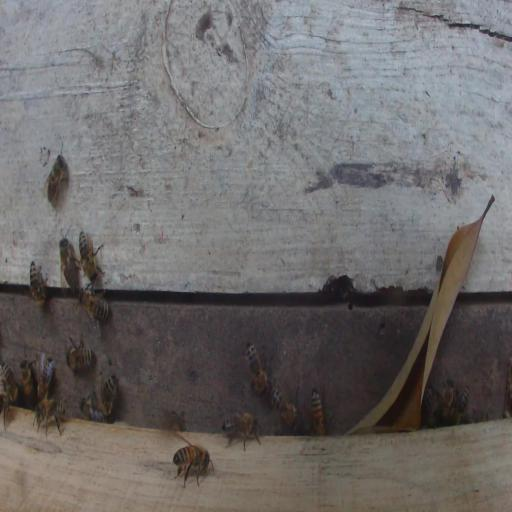Insects: (172, 443, 214, 488), (222, 411, 261, 452), (242, 342, 268, 396), (78, 230, 104, 282), (44, 151, 69, 204), (34, 396, 66, 436), (271, 387, 299, 430), (66, 333, 95, 373), (79, 288, 112, 323), (60, 237, 78, 294), (434, 376, 455, 423), (29, 259, 46, 305), (37, 358, 54, 403), (19, 357, 35, 403), (2, 362, 19, 405), (311, 386, 325, 437), (101, 373, 117, 416), (80, 393, 104, 421), (453, 386, 469, 424), (169, 410, 185, 433), (421, 386, 433, 413)
